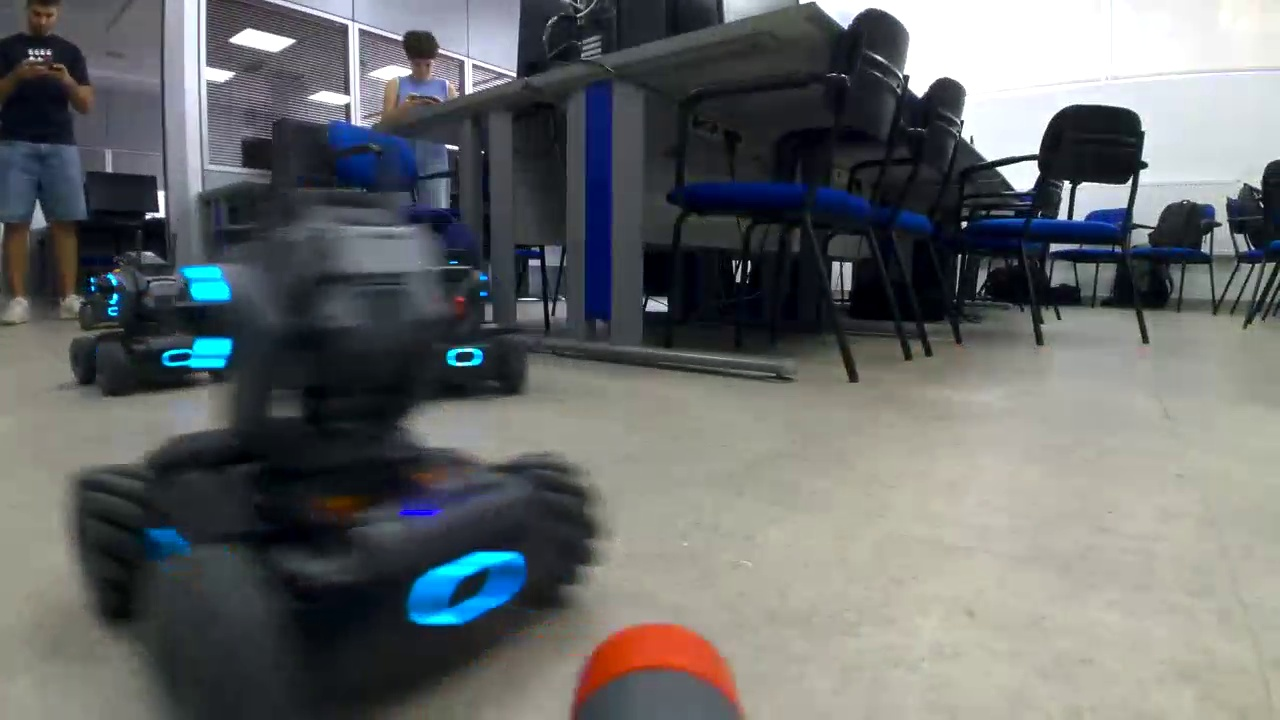robot: (64, 175, 603, 720), (64, 247, 211, 403), (399, 253, 536, 407)
